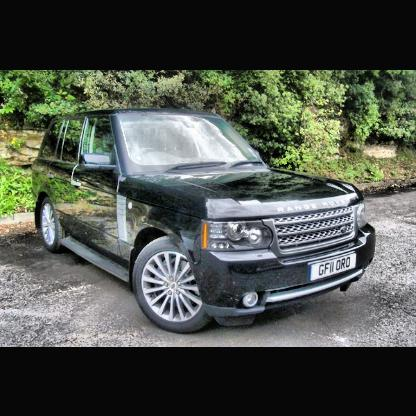Land Rover Range Rover SUV 2012: (28, 105, 379, 335)
